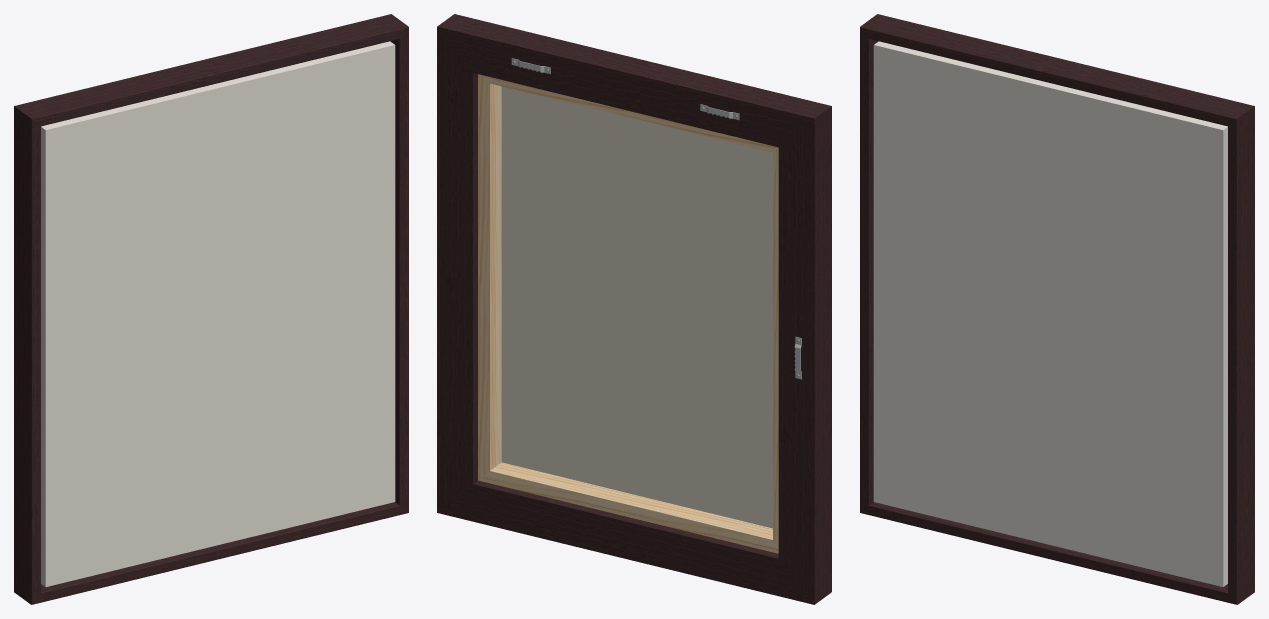
The model's file is decoded-from-delivery.glb.
3 renders of one model, left to right at view 1: azimuth 30°, elevation 25°; view 2: azimuth 150°, elevation 25°; view 3: azimuth 330°, elevation 25°, orthographic.
Visible parts, largest first — view 1: Canvas artwork front, Tray approved profile 0; view 2: Canvas linen reverse, Tray approved profile 0, Stretcher top, Sawtooth hanger 0; view 3: Canvas artwork front, Tray approved profile 0.
Part boxes in pixels (<box>): Canvas artwork front: <box>41,41,395,586</box>; Tray approved profile 0: <box>14,14,408,604</box>; Canvas linen reverse: <box>501,86,772,528</box>; Tray approved profile 0: <box>437,14,831,604</box>; Stretcher top: <box>478,74,778,553</box>; Sawtooth hanger 0: <box>511,58,801,379</box>; Canvas artwork front: <box>873,41,1227,586</box>; Tray approved profile 0: <box>860,14,1254,604</box>.
Bounding box in the file's own units: 0.432 × 0.532 × 0.0374.
Materials: 7 (3 with a texture image).
